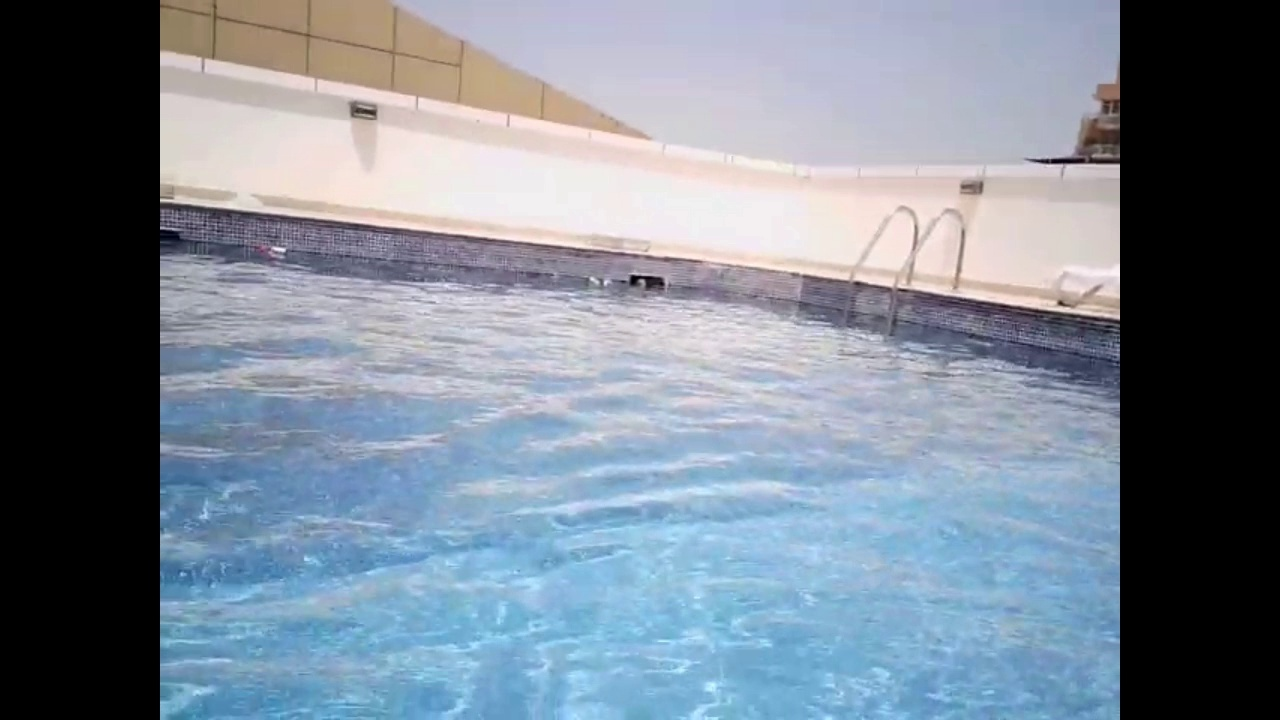debris: (262, 240, 290, 265), (582, 272, 603, 291), (592, 276, 615, 292), (634, 275, 649, 292)
